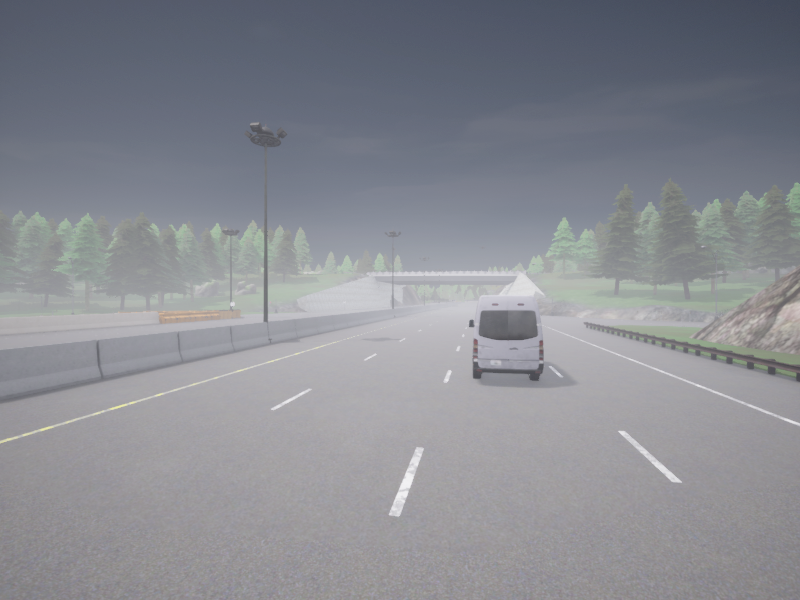vehicle: (469, 295, 543, 380)
